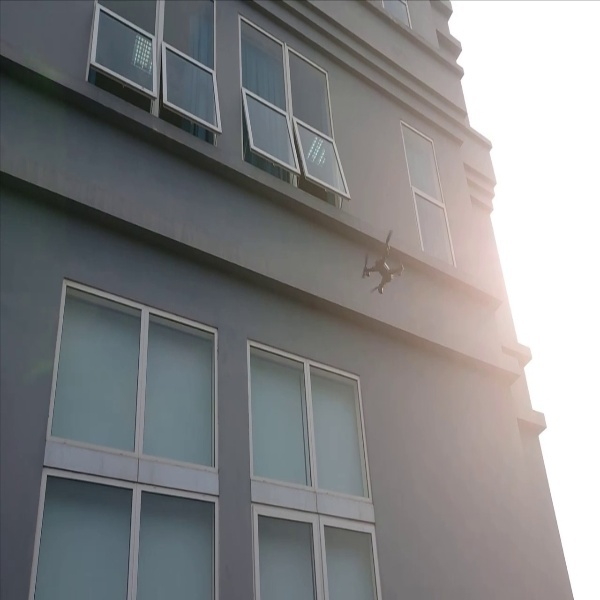drone: (357, 219, 416, 301)
